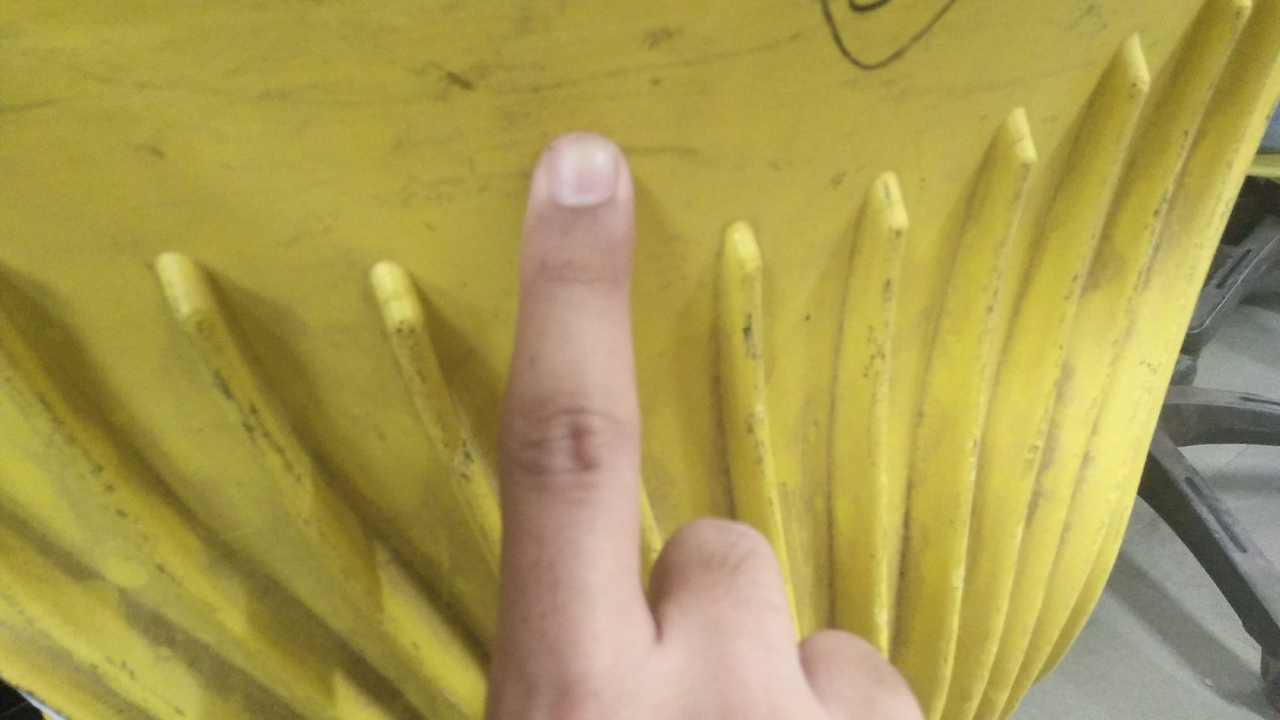fingertip: (530, 127, 630, 227)
